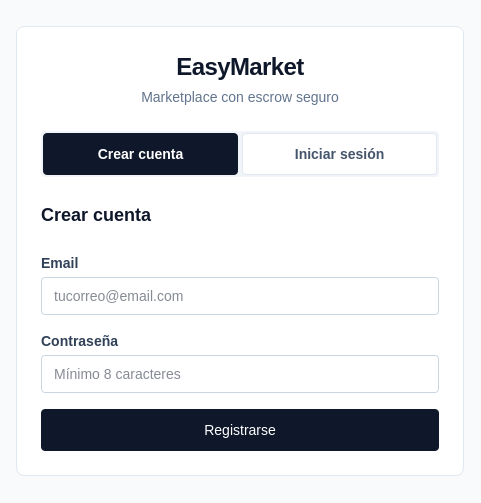
Test case: AuthPage (PHA01TSK10) › registro: bloquea el envío y muestra error si la contraseña está vacía
In the field labelled "Email": (240,296) [41,277,439,315], type "usuario@test.com"
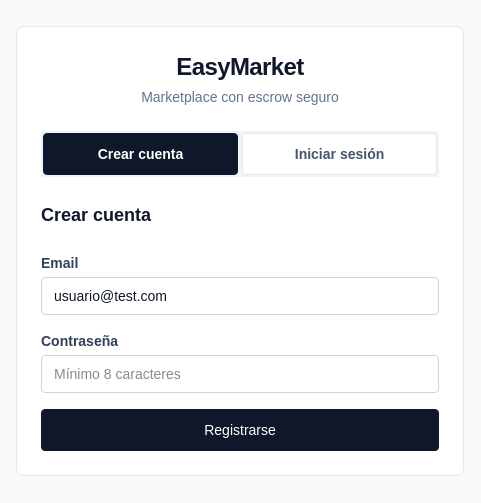
Click the button "Registrarse": (240,430) [41,409,439,451]
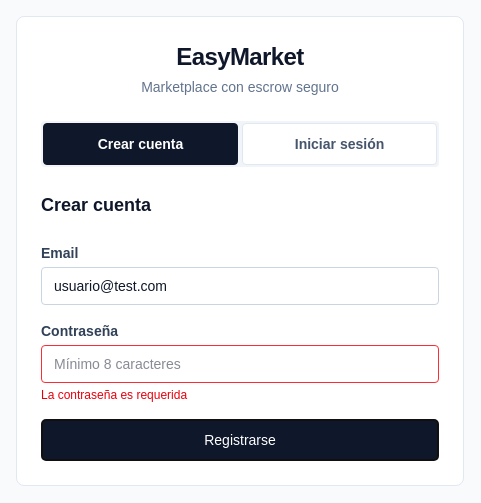
Expected: the text "La contraseña es requerida" is shown, [41,388,187,402]
